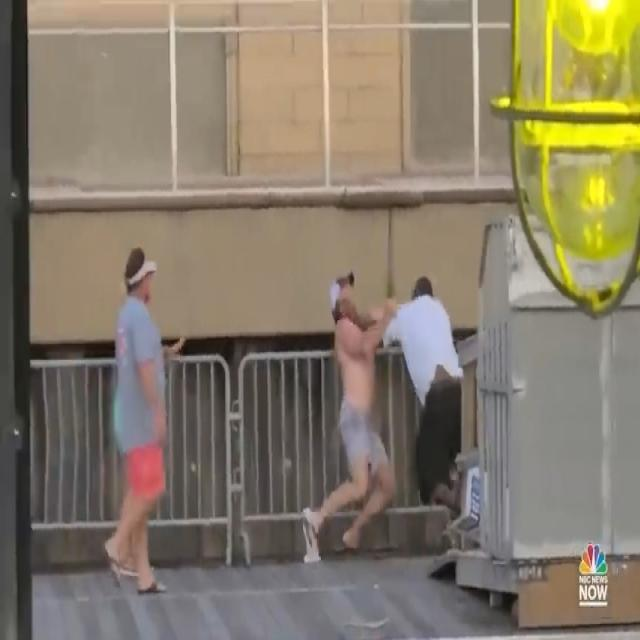fight: (301, 262, 468, 568)
non-fight: (102, 234, 190, 606)
